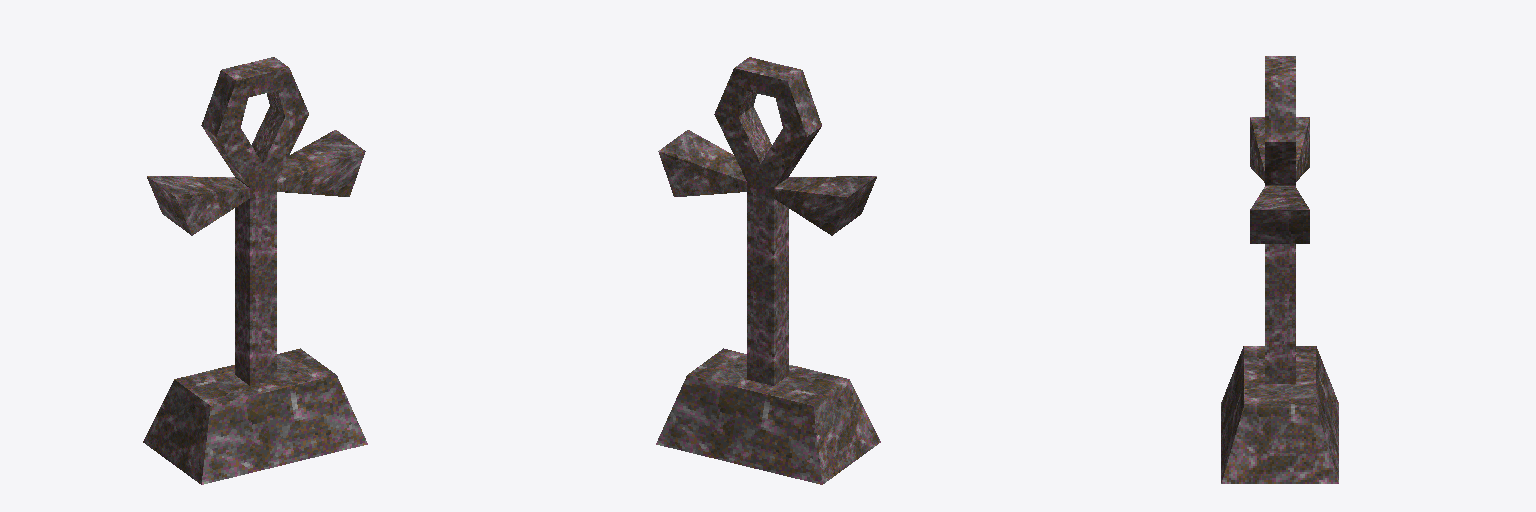
3 renders of one model, left to right at view 1: azimuth 30°, elevation 25°; view 2: azimuth 150°, elevation 25°; view 3: azimuth 270°, elevation 25°, orthographic.
Visible parts, largest first — view 1: model43121-node_model43121; view 2: model43121-node_model43121; view 3: model43121-node_model43121.
Part boxes in pixels (left/top/right/bottom): model43121-node_model43121: left=143, top=57, right=367, bottom=484; model43121-node_model43121: left=656, top=57, right=880, bottom=484; model43121-node_model43121: left=1221, top=56, right=1338, bottom=483.
Size of the model in its own units: 1.2 by 2.27 by 0.6422.
1 materials, 1 textured.